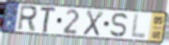2: (62, 8, 81, 36)
L: (130, 13, 148, 41)
R: (16, 4, 39, 33)
S: (109, 12, 129, 38)
T: (39, 7, 58, 34)
X: (82, 9, 105, 38)
